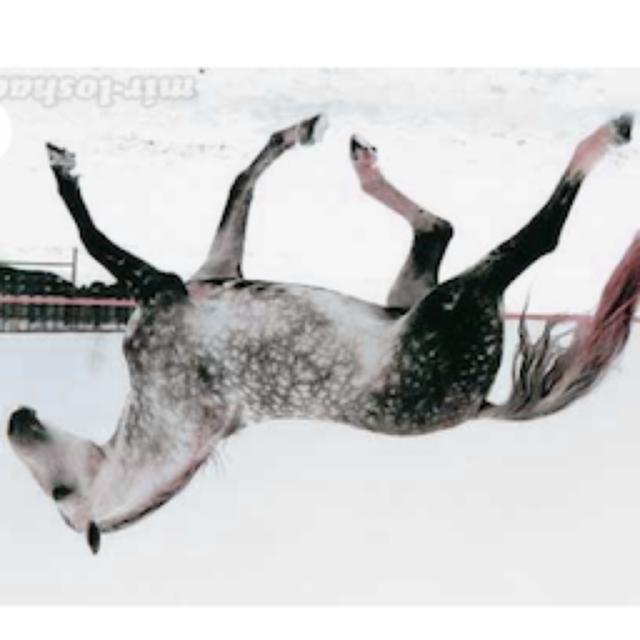Horse: (2, 108, 640, 560)
